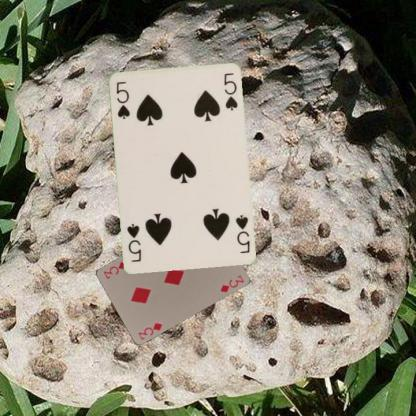3d: (135, 320, 164, 341)
5s: (232, 212, 251, 255), (113, 79, 131, 120)
